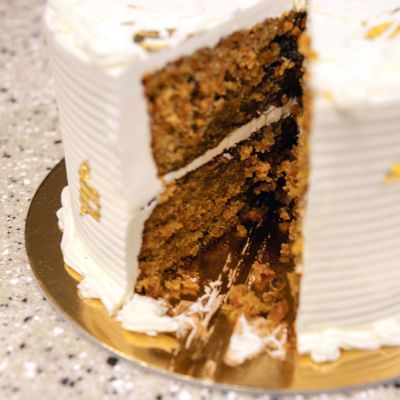sushi: (43, 0, 317, 387), (131, 2, 316, 383)
